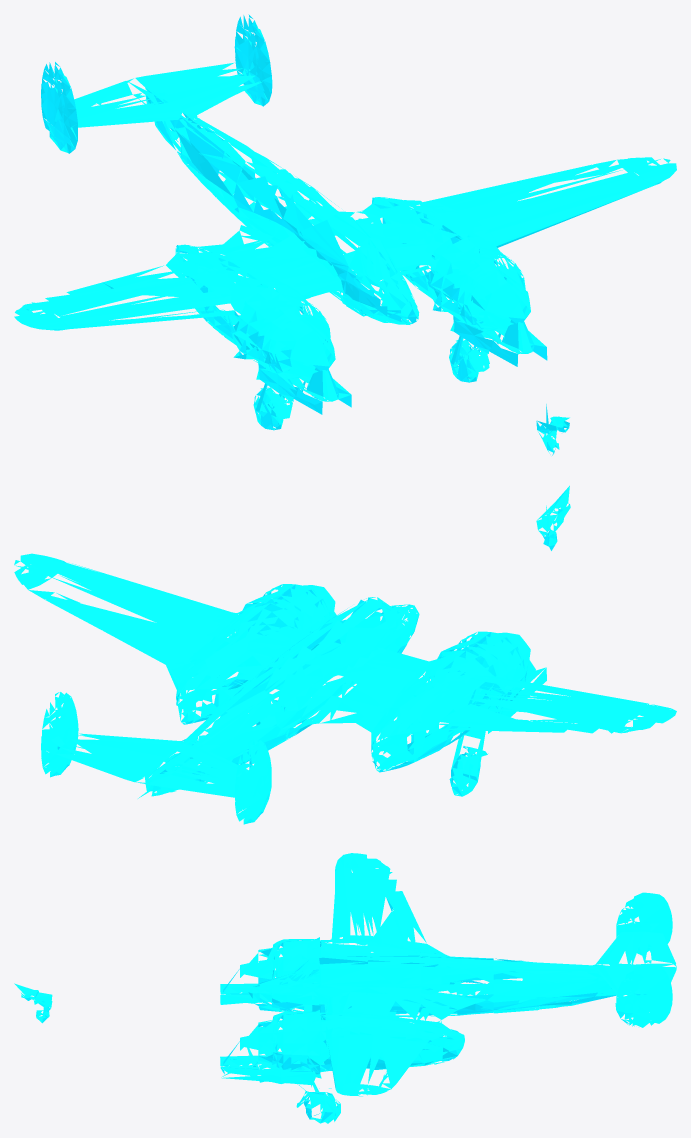
File: PRAB702.glb
The picture shows the model from 3 angles, top to bottom: view 1: azimuth 30°, elevation 25°; view 2: azimuth 150°, elevation 25°; view 3: azimuth 270°, elevation 25°; orthographic projection. The views are drawn at different scales.
Visible parts, largest first — view 1: misc; view 2: misc; view 3: misc.
Boxes of the visible parts, x1=… form: misc: x1=14, y1=14, x2=676, y2=455; misc: x1=14, y1=485, x2=676, y2=824; misc: x1=14, y1=853, x2=676, y2=1123.
Bounding box in the file's own units: 0.8419 × 0.2563 × 0.9692.
